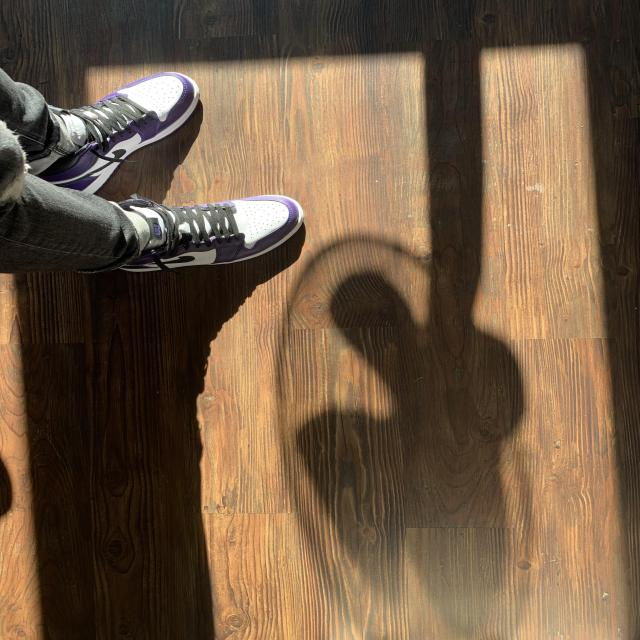shoe: (24, 65, 208, 205), (88, 189, 318, 289)
